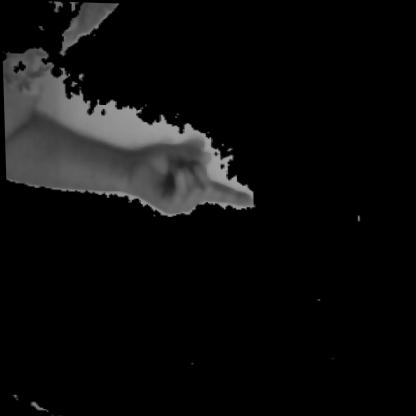one: (4, 86, 271, 230)
